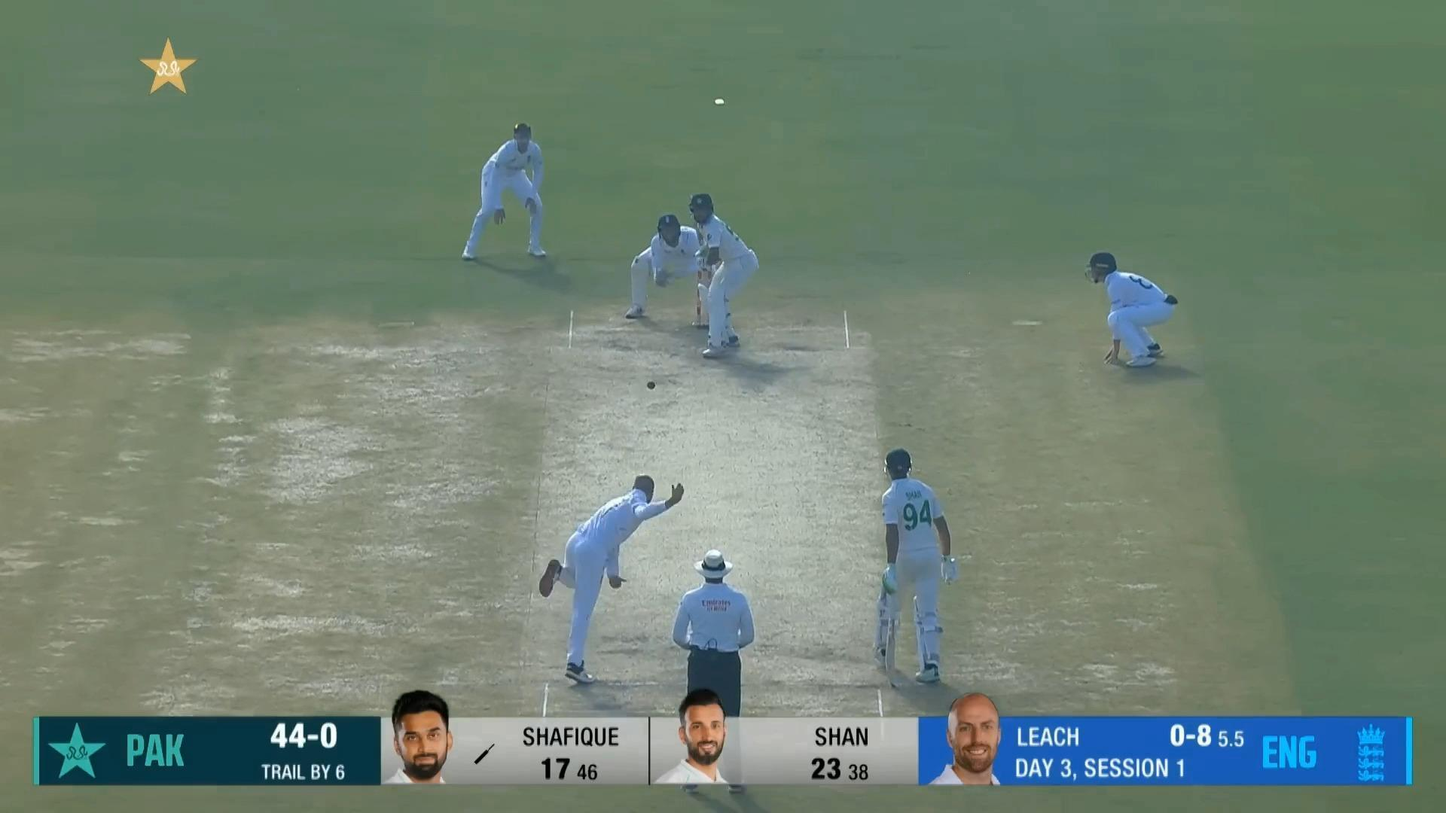BM 1: (686, 190, 762, 364)
BO: (536, 472, 686, 684)
